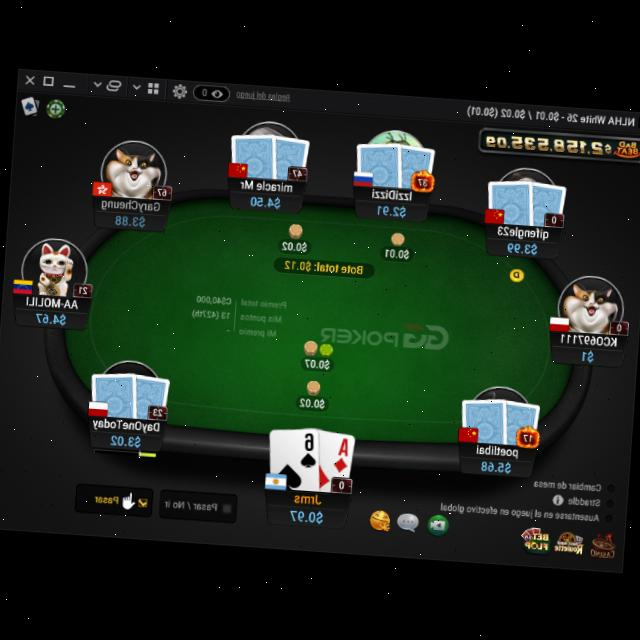6s: (297, 428, 319, 467)
Ad: (331, 433, 351, 472)
bet_text: (297, 392, 326, 408), (384, 242, 411, 258), (304, 353, 330, 369), (280, 237, 308, 251)
card_back: (352, 134, 405, 187), (87, 365, 140, 417), (458, 390, 511, 442), (484, 172, 536, 225), (228, 126, 280, 178), (522, 176, 568, 226), (391, 138, 435, 190), (266, 131, 312, 180), (498, 395, 542, 445), (128, 368, 171, 416)
dealer: (508, 262, 526, 280)
pot_text: (282, 255, 368, 275)
stack_text: (288, 502, 324, 523), (112, 210, 146, 228), (506, 236, 539, 254), (109, 429, 142, 446), (374, 198, 408, 214), (478, 456, 512, 472), (248, 191, 282, 207), (34, 308, 67, 324), (580, 345, 595, 360)
